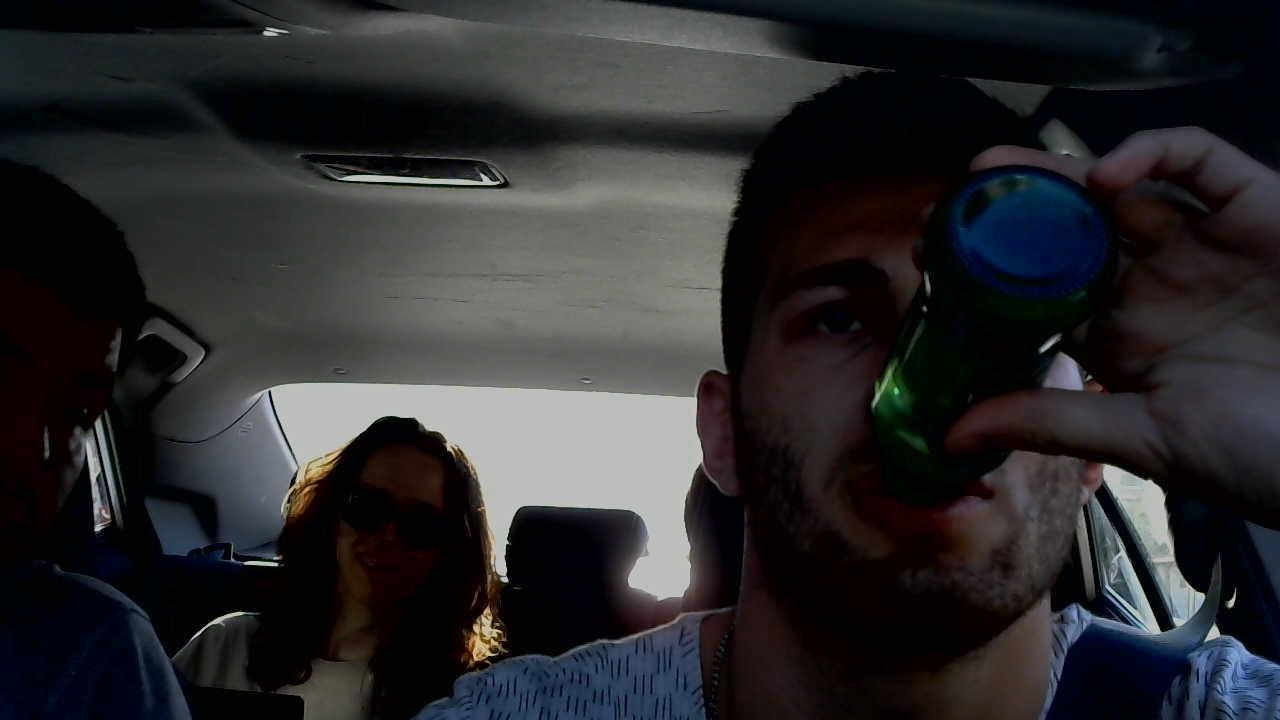Drinking: (696, 157, 1121, 625)
